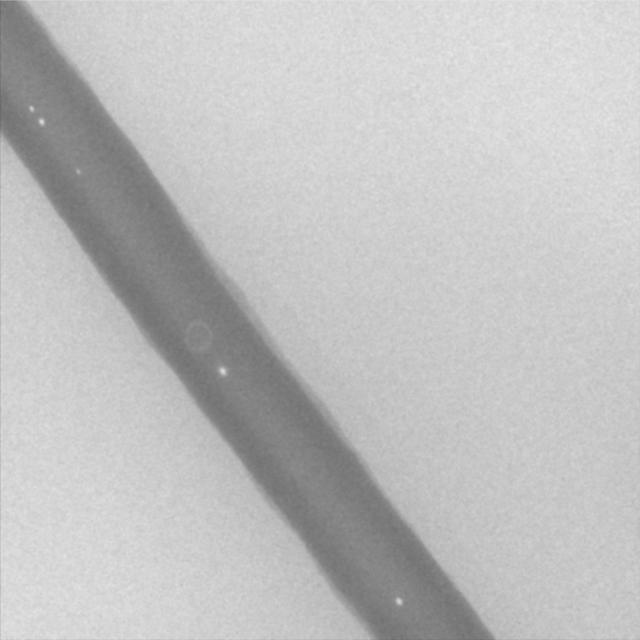air hole: (217, 364, 228, 377), (393, 595, 403, 606), (74, 165, 82, 177), (37, 117, 45, 127), (27, 103, 35, 113)
hollow bead: (182, 320, 214, 357)
